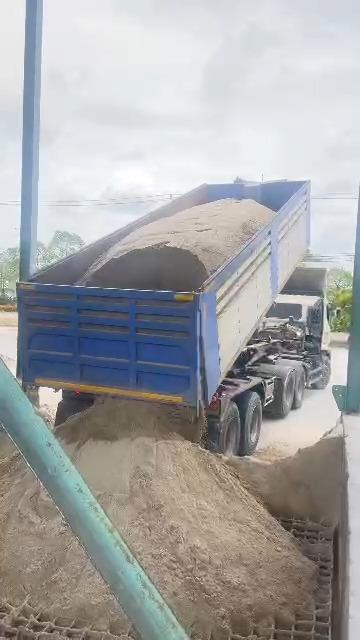sand: (56, 395, 313, 639), (0, 454, 131, 636), (0, 462, 130, 634), (78, 199, 274, 290), (81, 200, 274, 289), (229, 428, 345, 524), (0, 427, 16, 461), (0, 428, 15, 461), (35, 404, 54, 428)
